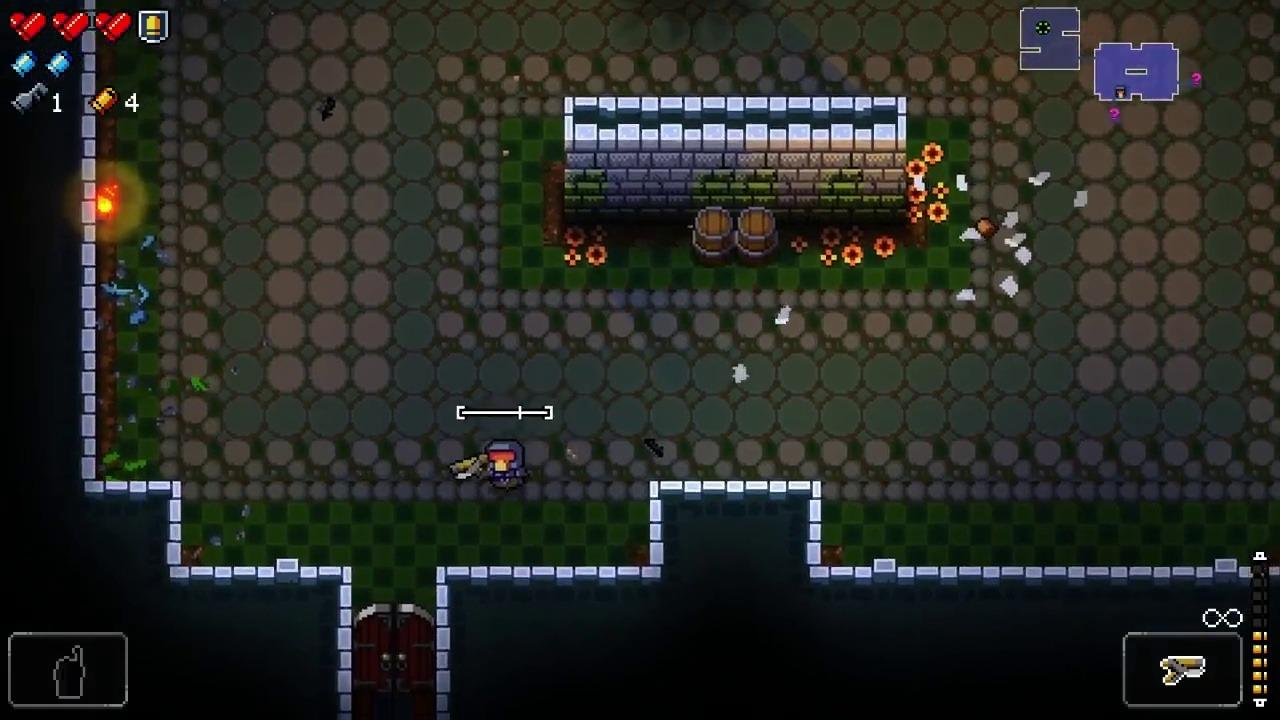player: (484, 440, 528, 493)
unlocked_door: (352, 603, 436, 698)
wall: (563, 97, 907, 237)
